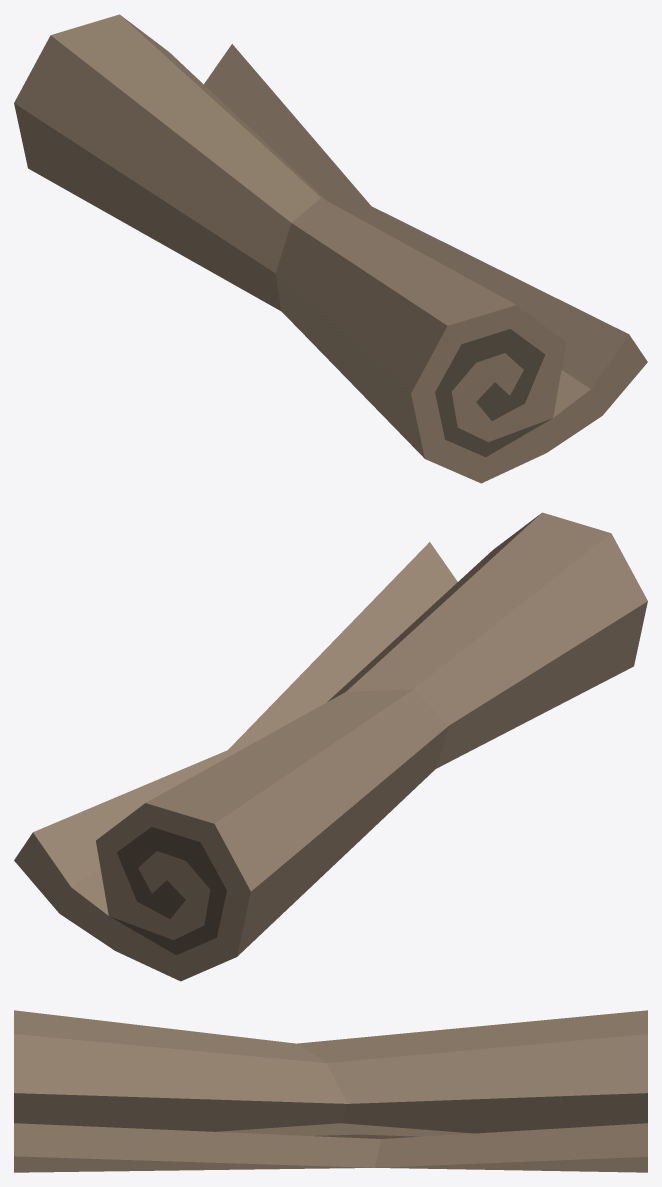
File: SM_Prop_Map_02.glb
The picture shows the model from 3 angles, top to bottom: view 1: azimuth 30°, elevation 25°; view 2: azimuth 150°, elevation 25°; view 3: azimuth 270°, elevation 25°; orthographic projection. The views are drawn at different scales.
Visible parts, largest first — view 1: SM_Prop_Map_02; view 2: SM_Prop_Map_02; view 3: SM_Prop_Map_02.
Boxes of the visible parts, box(x1,y1,x2,y2) form: SM_Prop_Map_02: box(14, 14, 647, 483); SM_Prop_Map_02: box(14, 512, 647, 981); SM_Prop_Map_02: box(14, 1010, 647, 1172).
Bounding box in the file's own units: 0.1385 × 0.0949 × 0.4019.
Materials: 1 (1 with a texture image).
